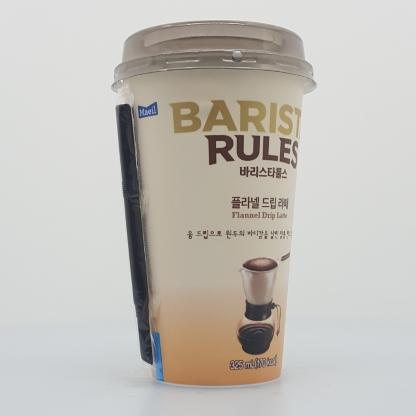------------------325ML: (111, 20, 317, 389)
